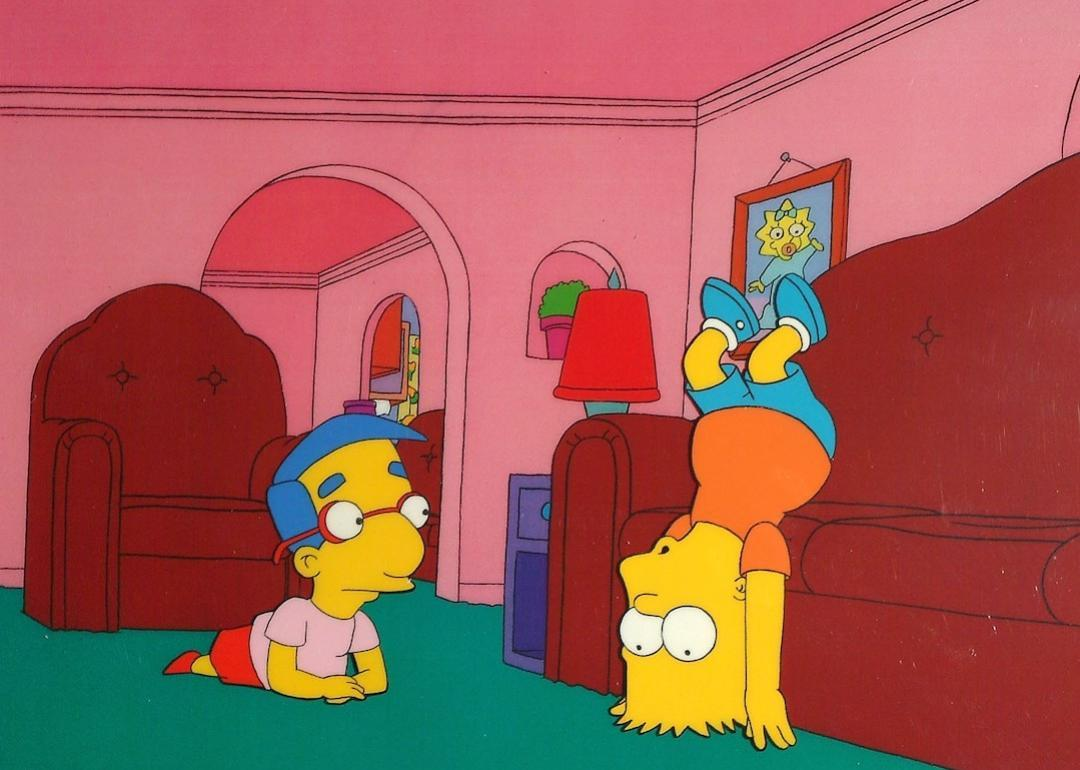Bart: (605, 249, 859, 760)
